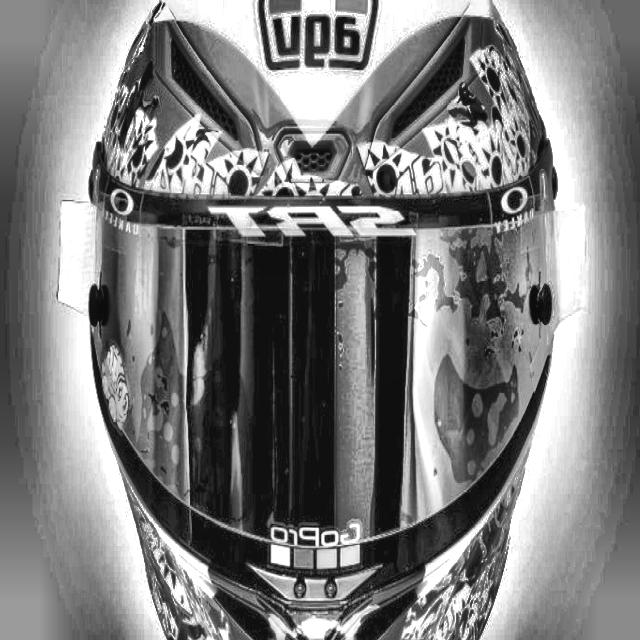Helmet: (62, 0, 584, 640)
